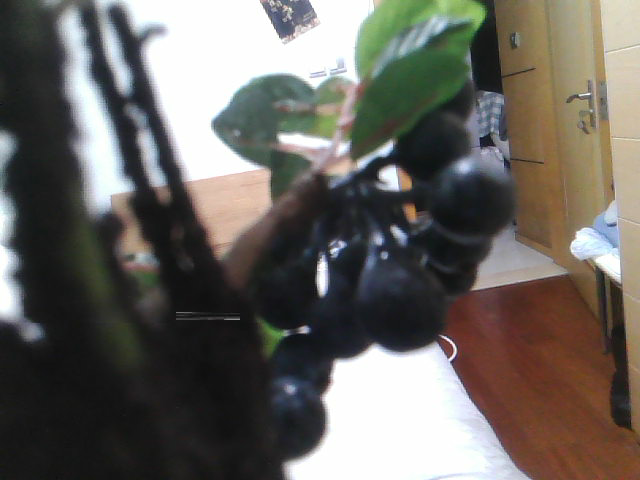blueberry: (352, 272, 434, 360), (259, 260, 323, 352), (264, 390, 327, 443), (278, 340, 340, 388), (411, 109, 464, 162), (462, 148, 508, 205), (428, 249, 472, 295), (436, 209, 485, 249)
